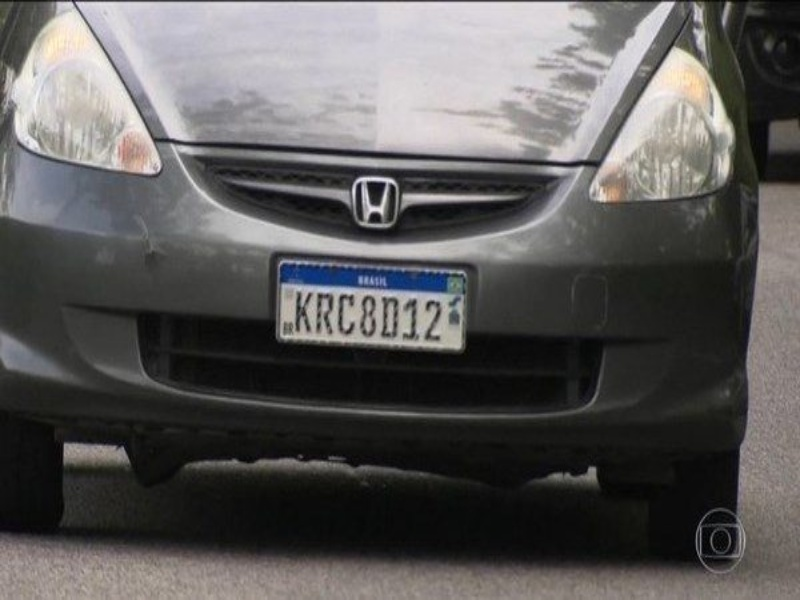placa: (275, 257, 474, 356)
